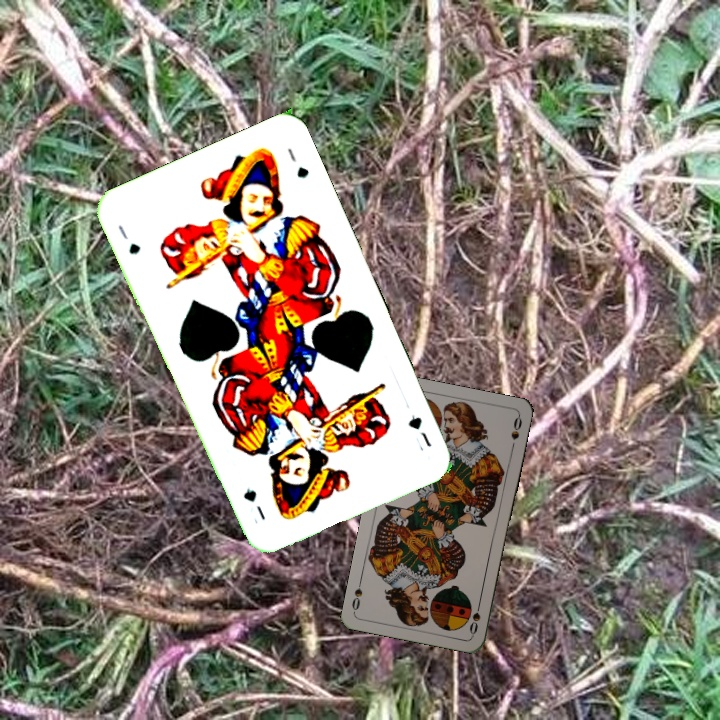GU: (404, 411, 435, 454), (113, 221, 143, 257)
SO: (465, 597, 483, 637)
